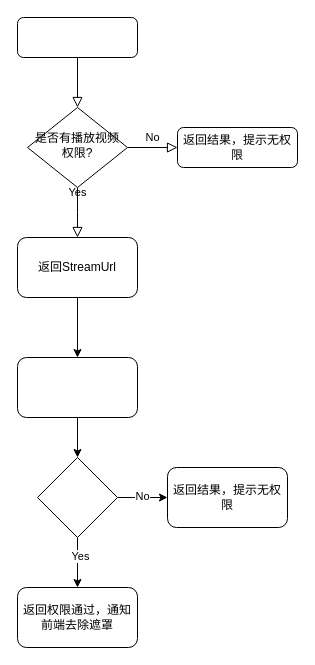
The diagram is 315 pixels wide and 665 high, and some of its shapes have lost their labels. Each missing label, with the centre of its shape:
getStreamUrl: the point at 77,37
removeMask: the point at 77,387
是否有去除遮罩的权限: the point at 77,497
